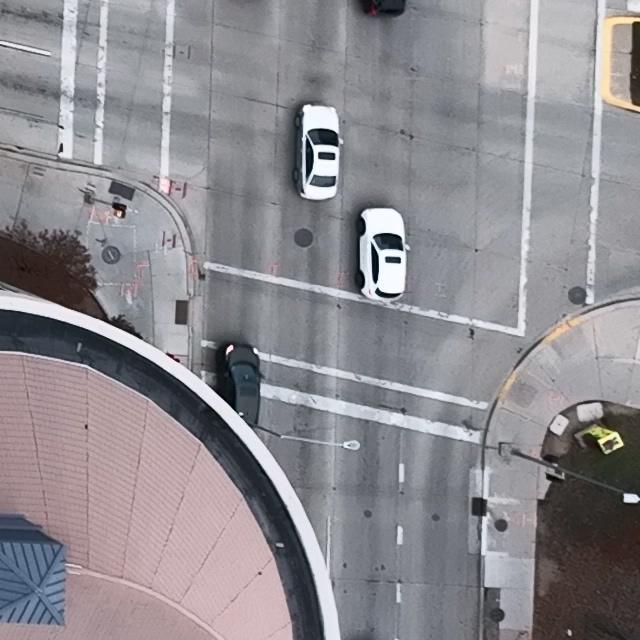car: (356, 207, 411, 302), (294, 103, 344, 202), (218, 342, 265, 428)
